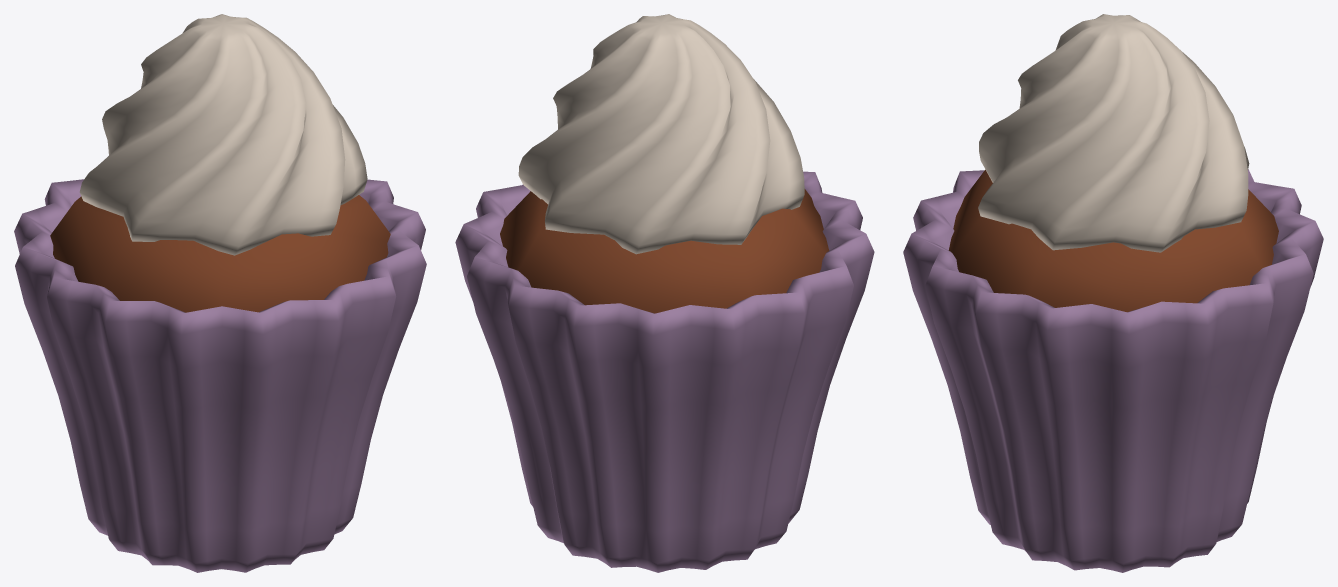
File: SM_muffin_02.fbx
The picture shows the model from 3 angles, left to right: view 1: azimuth 30°, elevation 25°; view 2: azimuth 150°, elevation 25°; view 3: azimuth 270°, elevation 25°; orthographic projection.
Parts seen in each view (by area): view 1: SM_muffin_02; view 2: SM_muffin_02; view 3: SM_muffin_02.
Part boxes in pixels (x1,y1,x2,y2): SM_muffin_02: (14, 14, 426, 572); SM_muffin_02: (455, 14, 874, 572); SM_muffin_02: (903, 14, 1323, 572).
Size of the model in its own units: 13.58 by 17.84 by 13.58.
Materials: 1 (1 with a texture image).
